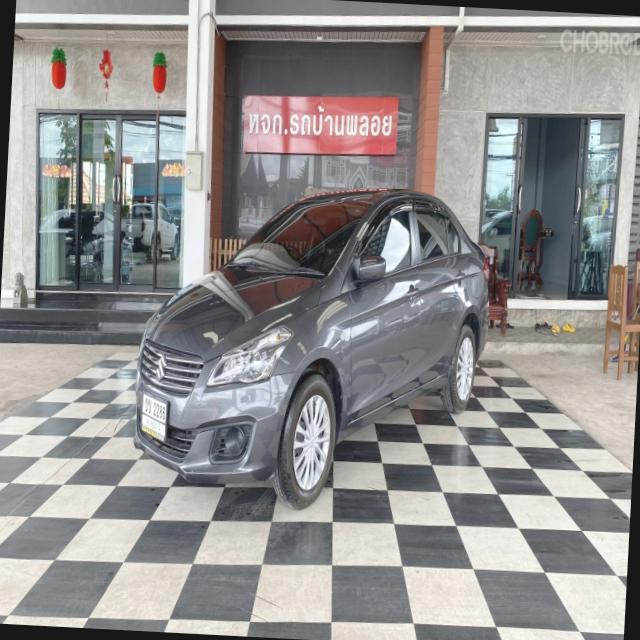license_plate: (138, 388, 170, 445)
